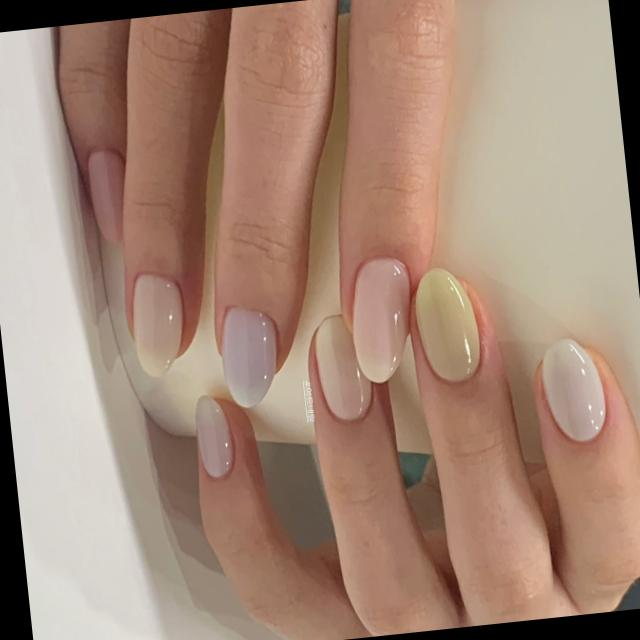Nail: (414, 267, 479, 382), (352, 256, 409, 383), (540, 338, 605, 441), (313, 315, 371, 420), (220, 306, 276, 407), (131, 273, 182, 377), (86, 149, 123, 243), (194, 395, 232, 478)
